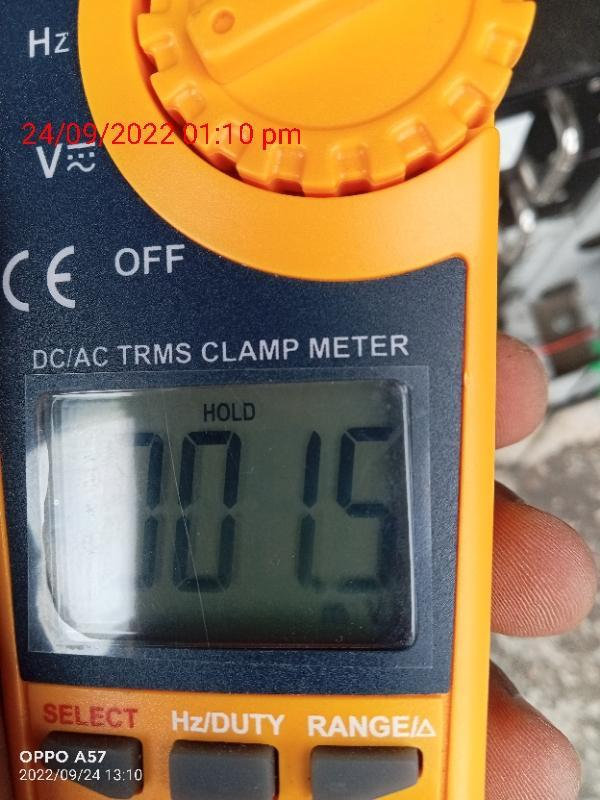ClampMeter_Display: (47, 390, 421, 648)
